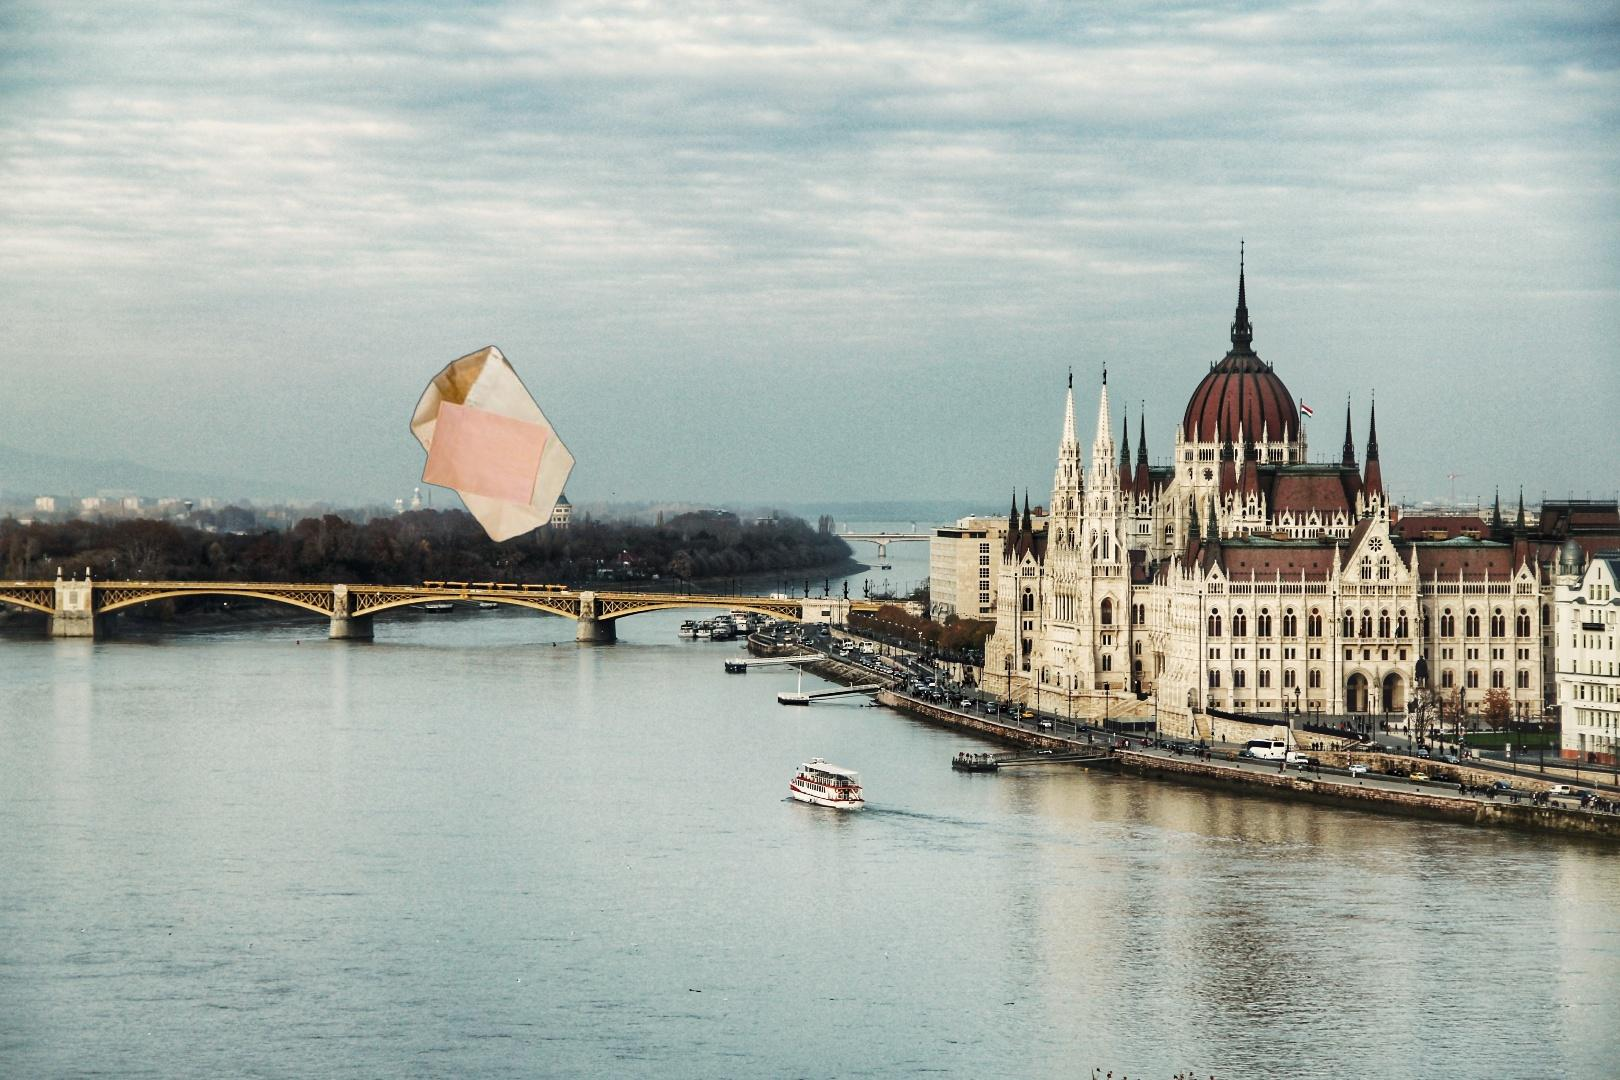paper-bag: (407, 342, 577, 545)
